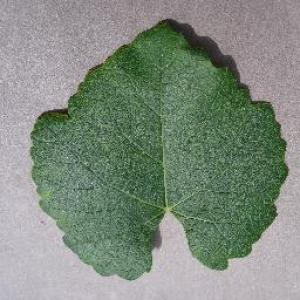Folha: (28, 18, 290, 281)
